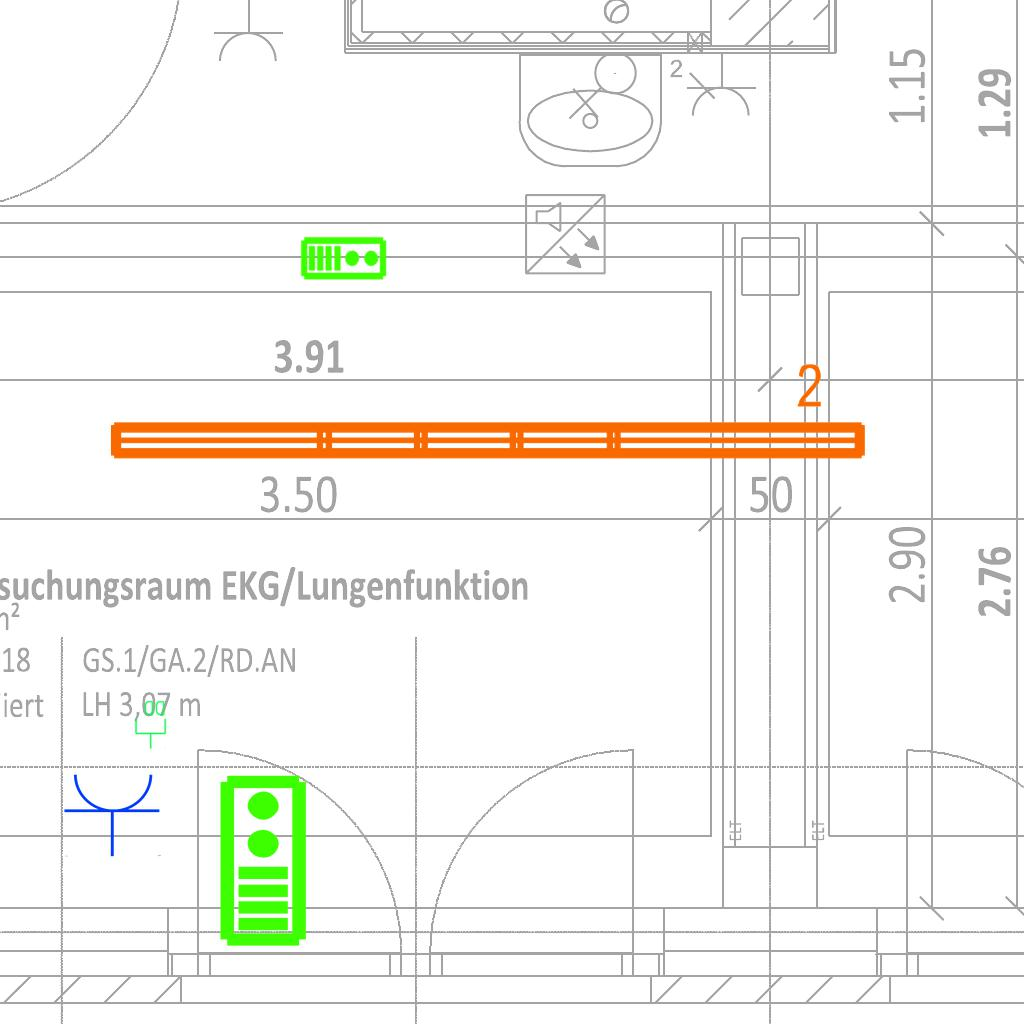Ambulanz_Pendelleuchte_LED: (100, 359, 874, 471)
Datenanschluss_zweifach: (134, 699, 168, 750)
Gegensprechanlage_mit_Video: (214, 772, 309, 948), (300, 234, 388, 281)
Schukosteckdose_einfach: (63, 770, 163, 857)
